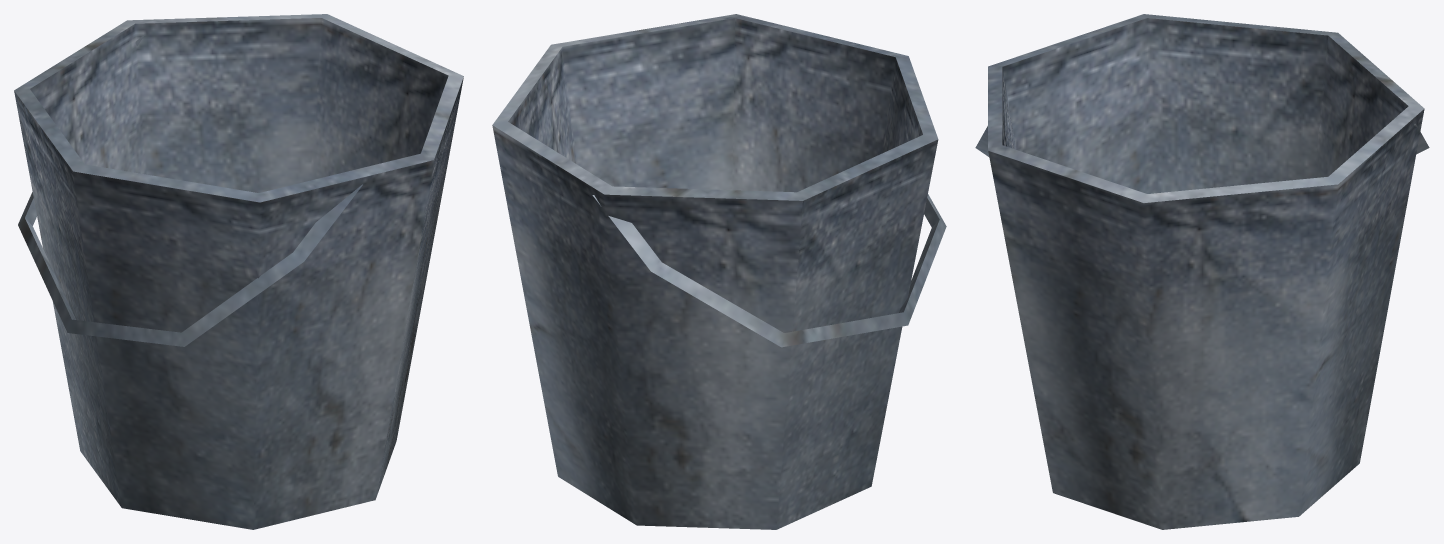
Rendered from bucket.glb.
3 renders of one model, left to right at view 1: azimuth 30°, elevation 25°; view 2: azimuth 150°, elevation 25°; view 3: azimuth 270°, elevation 25°, orthographic.
Parts seen in each view (by area): view 1: Tray; view 2: Tray; view 3: Tray.
Part boxes in pixels (x1,y1,x2,y2): Tray: (14,14,463,529); Tray: (492,14,946,529); Tray: (975,14,1429,529).
Size of the model in its own units: 0.5885 by 0.5185 by 0.5971.
1 material, 1 textured.
